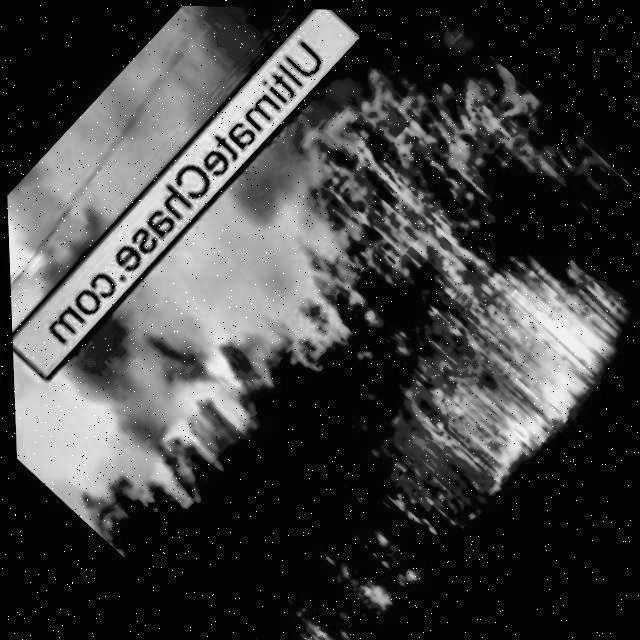Fire: (0, 0, 549, 562), (0, 0, 376, 294), (393, 245, 630, 484), (259, 604, 341, 640), (344, 572, 387, 614)
